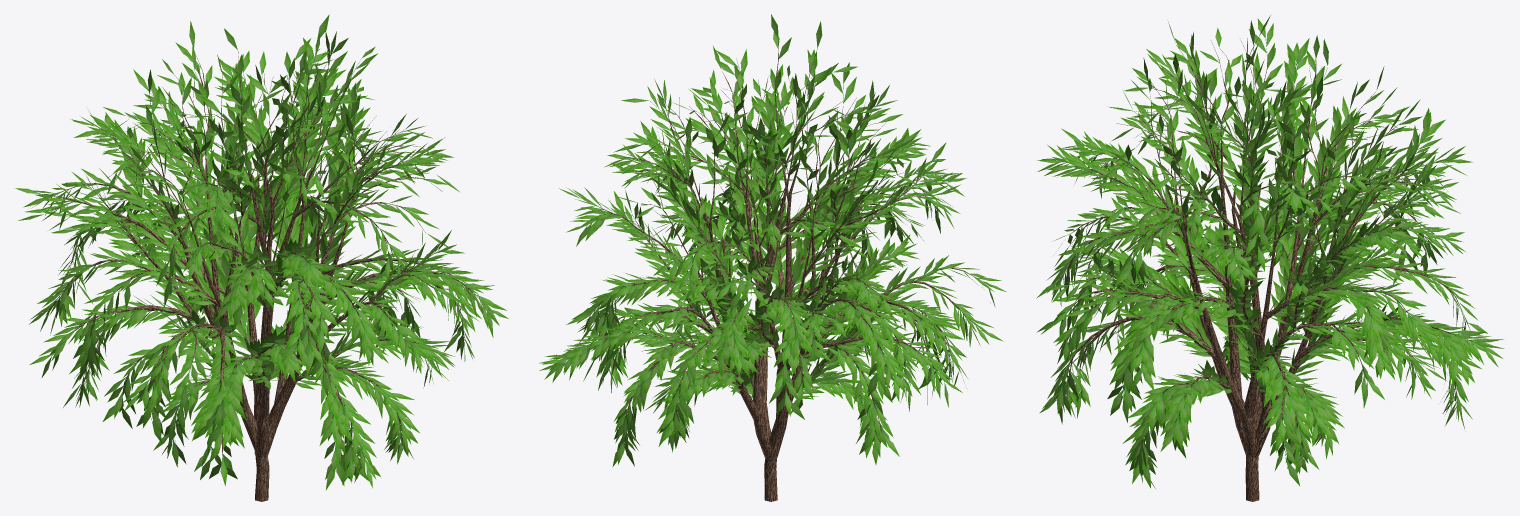
File: prop_shop_realistic_tree.glb
3 views of the same model, side by side, from view 1: azimuth 30°, elevation 25°; view 2: azimuth 150°, elevation 25°; view 3: azimuth 270°, elevation 25° (orthographic). The views are drawn at different scales.
Parts seen in each view (by area): view 1: leaves, tree; view 2: leaves, tree; view 3: leaves, tree.
Boxes of the visible parts, x1,y1,x2,y2 form: leaves: [14, 14, 508, 490]; tree: [42, 51, 489, 501]; leaves: [539, 14, 1006, 466]; tree: [584, 39, 984, 501]; leaves: [1036, 15, 1504, 488]; tree: [1057, 39, 1473, 501].
Bounding box in the file's own units: 5.91 × 6.84 × 6.05.
2 materials, 2 textured.
